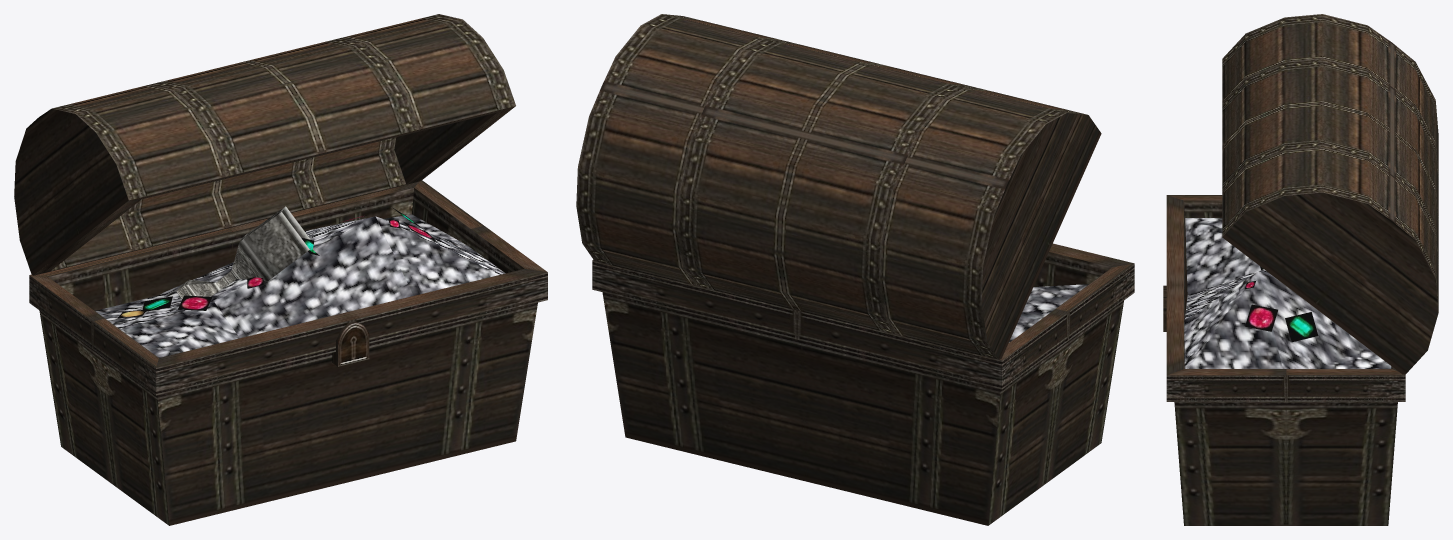
The model's file is treasureChest_open.fbx.
3 views of the same model, side by side, from view 1: azimuth 30°, elevation 25°; view 2: azimuth 150°, elevation 25°; view 3: azimuth 270°, elevation 25° (orthographic). The views are drawn at different scales.
Parts seen in each view (by area): view 1: bottom_mesh, top, polySurface14, polySurface44; view 2: top, bottom_mesh, polySurface14; view 3: top, bottom_mesh, polySurface14, pPlane85, pPlane90.
Part boxes in pixels (<box>): bottom_mesh: <box>29,180,547,525</box>; top: <box>14,14,515,275</box>; polySurface14: <box>95,214,505,357</box>; polySurface44: <box>176,206,311,299</box>; top: <box>576,14,1101,359</box>; bottom_mesh: <box>592,243,1134,525</box>; polySurface14: <box>1009,284,1088,342</box>; top: <box>1222,14,1438,374</box>; bottom_mesh: <box>1163,195,1405,525</box>; polySurface14: <box>1184,218,1391,368</box>; pPlane85: <box>1285,312,1318,342</box>; pPlane90: <box>1245,304,1277,331</box>.
Size of the model in its own units: 439 by 389 by 283.
Materials: 2 (2 with a texture image).
